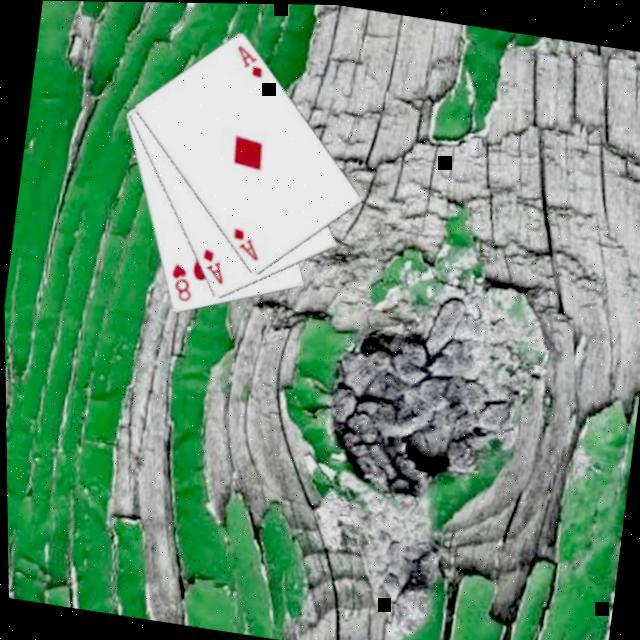8H: (161, 260, 196, 306)
AD: (228, 42, 267, 82), (224, 224, 262, 264), (192, 246, 228, 288)
